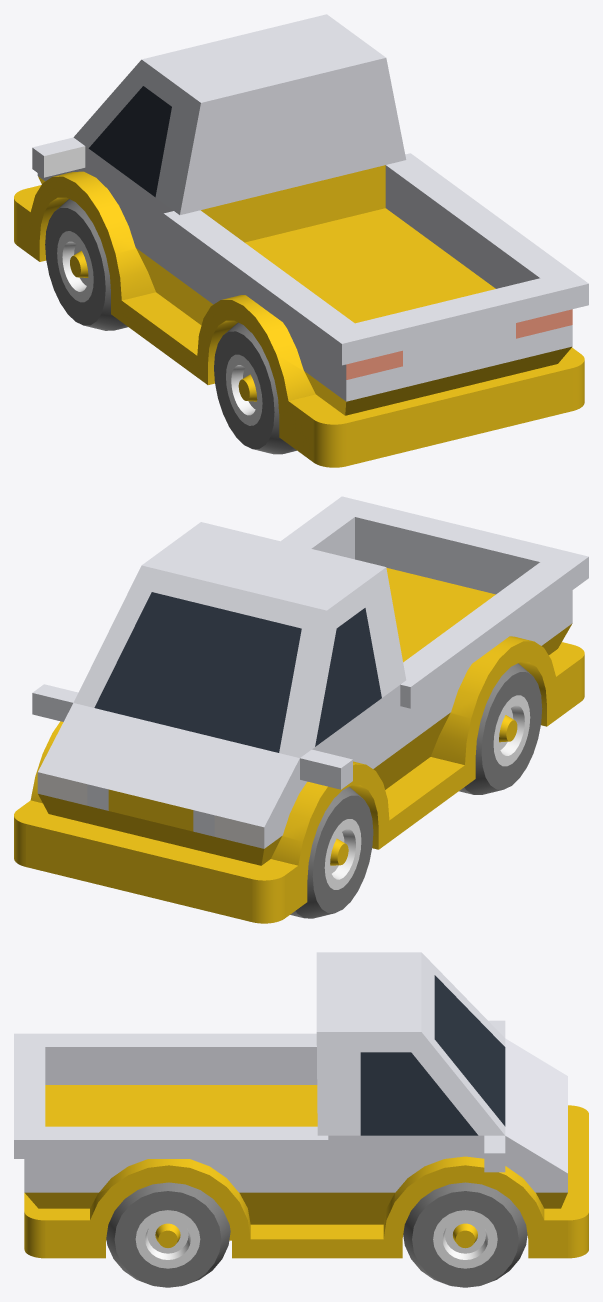
Rendered from truckFlat.glb.
3 renders of one model, top to bottom at view 1: azimuth 30°, elevation 25°; view 2: azimuth 150°, elevation 25°; view 3: azimuth 270°, elevation 25°, orthographic. The views are drawn at different scales.
Parts seen in each view (by area): view 1: body, wheel_frontLeft, wheel_backLeft; view 2: body, wheel_backLeft, wheel_frontLeft; view 3: body, wheel_frontRight, wheel_backRight.
Part boxes in pixels (left/top/right/bottom): body: left=14, top=14, right=588, bottom=467; wheel_frontLeft: left=45, top=199, right=127, bottom=330; wheel_backLeft: left=214, top=322, right=296, bottom=454; body: left=14, top=496, right=588, bottom=923; wheel_backLeft: left=459, top=663, right=542, bottom=794; wheel_frontLeft: left=290, top=786, right=373, bottom=918; body: left=14, top=952, right=588, bottom=1258; wheel_frontRight: left=403, top=1182, right=527, bottom=1287; wheel_backRight: left=106, top=1182, right=230, bottom=1287.
Size of the model in its own units: 1.5 by 1.3 by 2.75.
